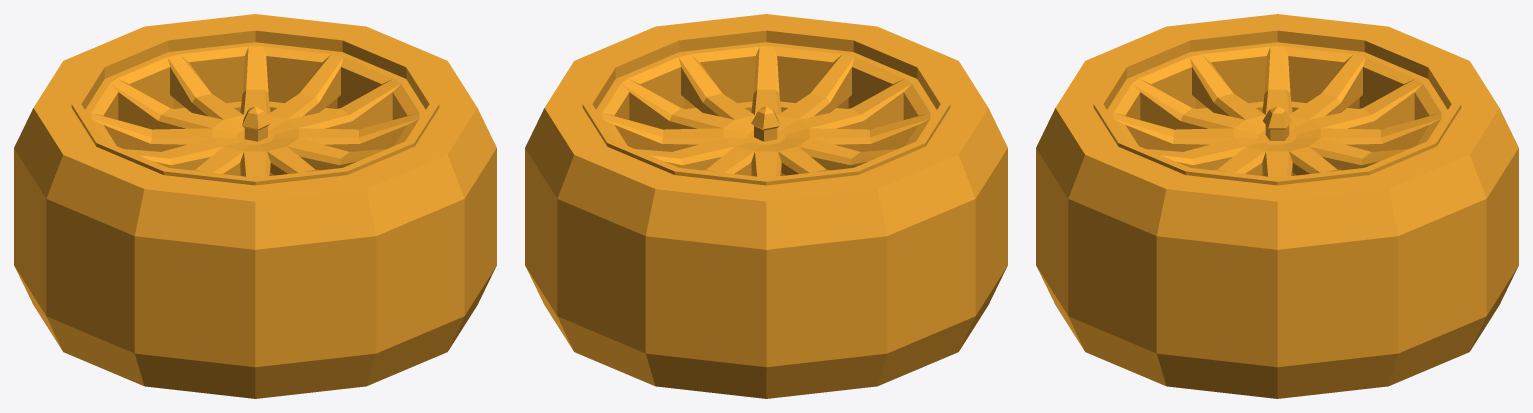
File: SM_Wheel_Single_LemansPrototype.fbx
3 renders of one model, left to right at view 1: azimuth 30°, elevation 25°; view 2: azimuth 150°, elevation 25°; view 3: azimuth 270°, elevation 25°, orthographic.
Parts seen in each view (by area): view 1: SM_Wheel_Single_LemansPrototype; view 2: SM_Wheel_Single_LemansPrototype; view 3: SM_Wheel_Single_LemansPrototype.
Part boxes in pixels (left/top/right/bottom): SM_Wheel_Single_LemansPrototype: left=14, top=14, right=496, bottom=398; SM_Wheel_Single_LemansPrototype: left=525, top=14, right=1007, bottom=398; SM_Wheel_Single_LemansPrototype: left=1036, top=14, right=1518, bottom=398.
Bounding box in the file's own units: 0.8307 × 0.3815 × 0.8307.
